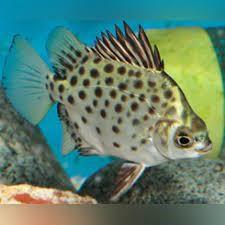Scat Fish: (0, 19, 216, 206)
